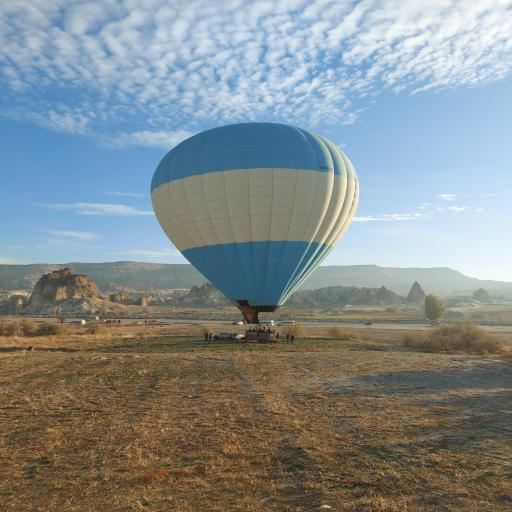hot air ballon: (147, 118, 363, 344)
